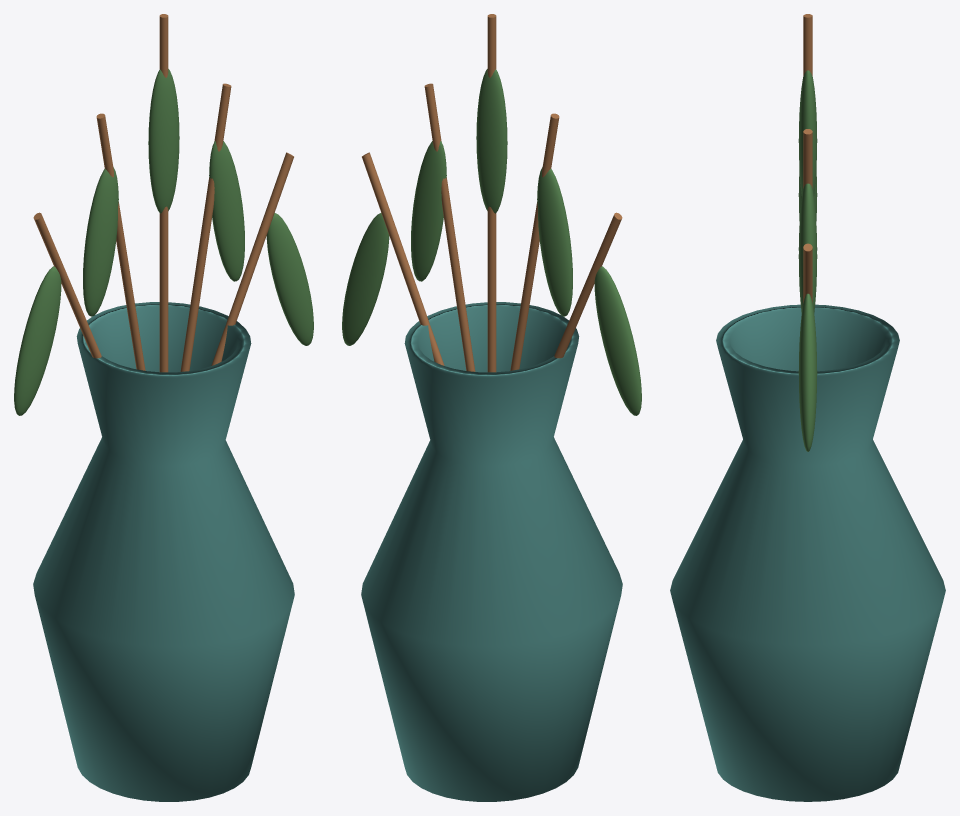
File: wp-vase-et-branches.glb
3 views of the same model, side by side, from view 1: azimuth 30°, elevation 25°; view 2: azimuth 150°, elevation 25°; view 3: azimuth 270°, elevation 25° (orthographic).
Visible parts, largest first — view 1: wp-vase-et-branches; view 2: wp-vase-et-branches; view 3: wp-vase-et-branches.
Part boxes in pixels (bbox=[...]): wp-vase-et-branches: bbox=[14, 14, 313, 801]; wp-vase-et-branches: bbox=[342, 14, 641, 801]; wp-vase-et-branches: bbox=[670, 14, 945, 801].
Size of the model in its own units: 0.3764 by 0.9 by 0.3.
